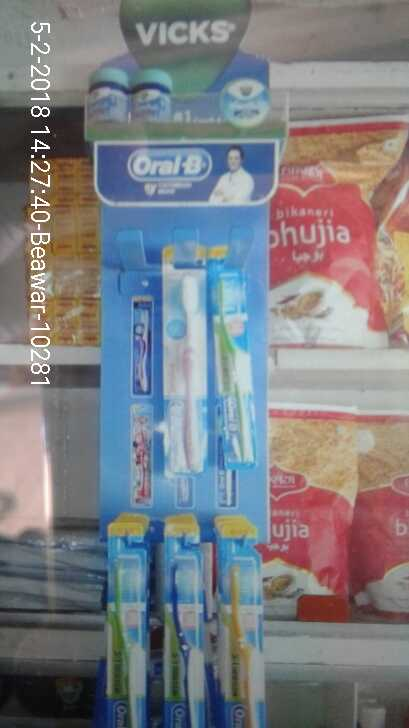pharmacy: (161, 239, 211, 481), (211, 245, 261, 470), (86, 69, 132, 125), (130, 66, 172, 124)
